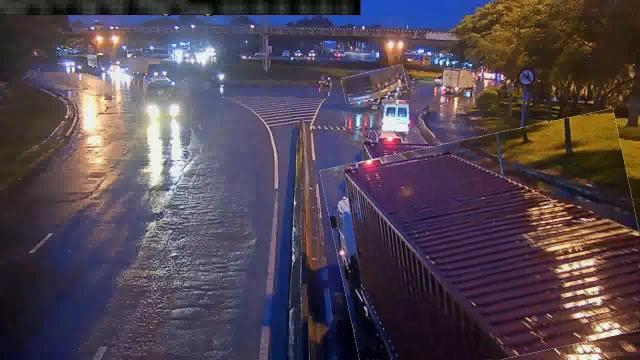Bus: (382, 100, 411, 136)
Truck: (329, 122, 639, 360), (342, 68, 406, 100), (444, 70, 476, 92)
